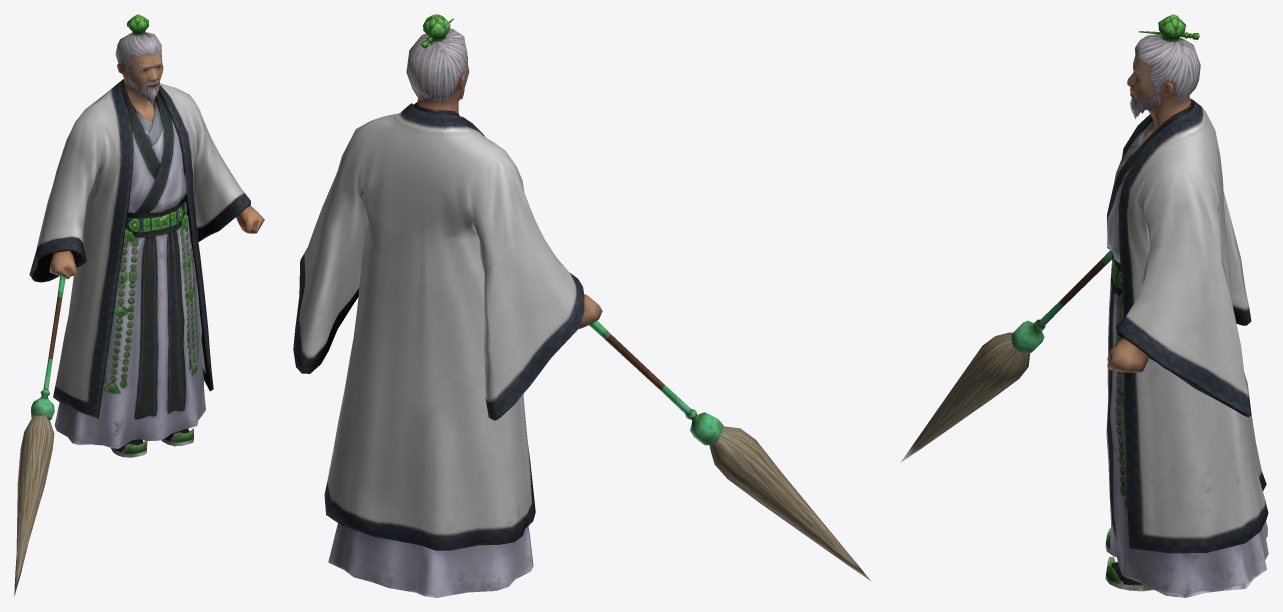
The model's file is 94-sage.glb.
3 views of the same model, side by side, from view 1: azimuth 30°, elevation 25°; view 2: azimuth 150°, elevation 25°; view 3: azimuth 270°, elevation 25° (orthographic). The views are drawn at different scales.
Size of the model in its own units: 1.84 by 2.38 by 1.34.
2 materials, 2 textured.
